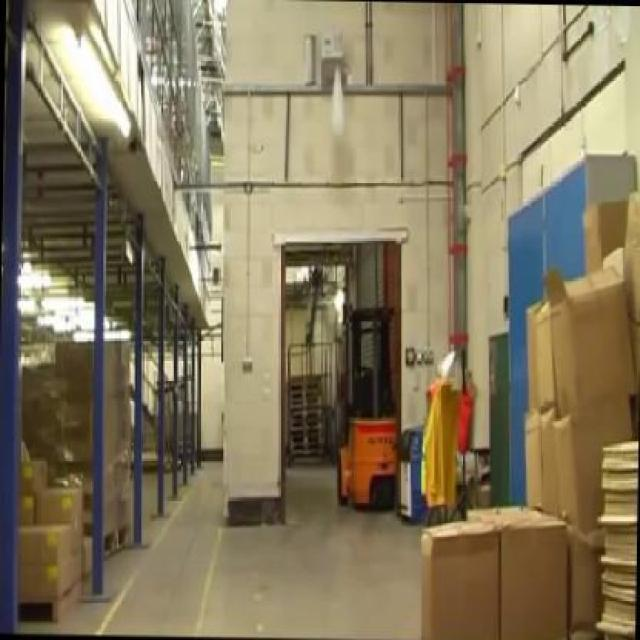fire: (321, 82, 356, 150)
